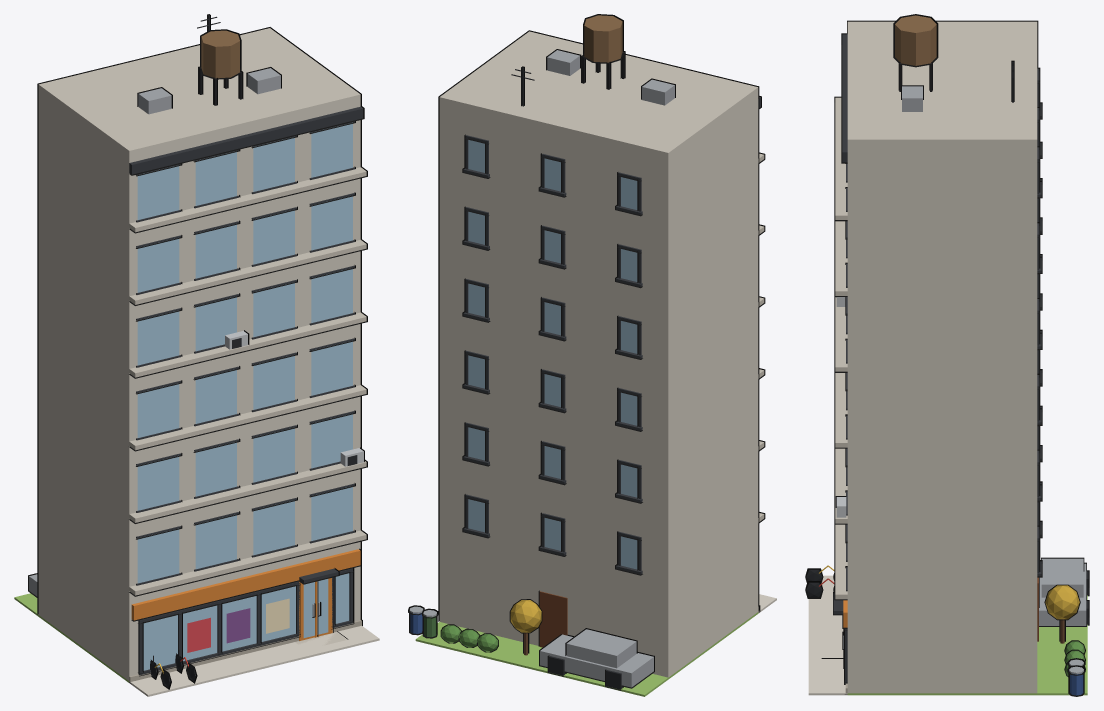
The model's file is Blok_duz_7k_2.fbx.
3 views of the same model, side by side, from view 1: azimuth 30°, elevation 25°; view 2: azimuth 150°, elevation 25°; view 3: azimuth 270°, elevation 25° (orthographic). The views are drawn at different scales.
Visible parts, largest first — view 1: Blok_duz_7k_2; view 2: Blok_duz_7k_2; view 3: Blok_duz_7k_2.
Boxes of the visible parts, x1=… form: Blok_duz_7k_2: x1=14, y1=14, x2=379, y2=696; Blok_duz_7k_2: x1=408, y1=14, x2=776, y2=696; Blok_duz_7k_2: x1=805, y1=14, x2=1089, y2=696.
Bounding box in the file's own units: 10.56 × 24.48 × 10.19.
